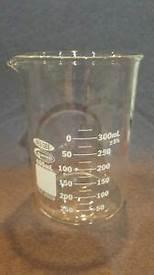Beaker: (1, 37, 144, 234)
